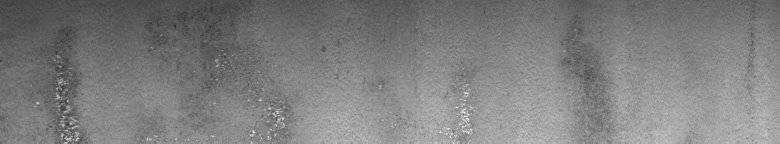hc: (35, 52, 84, 136)
